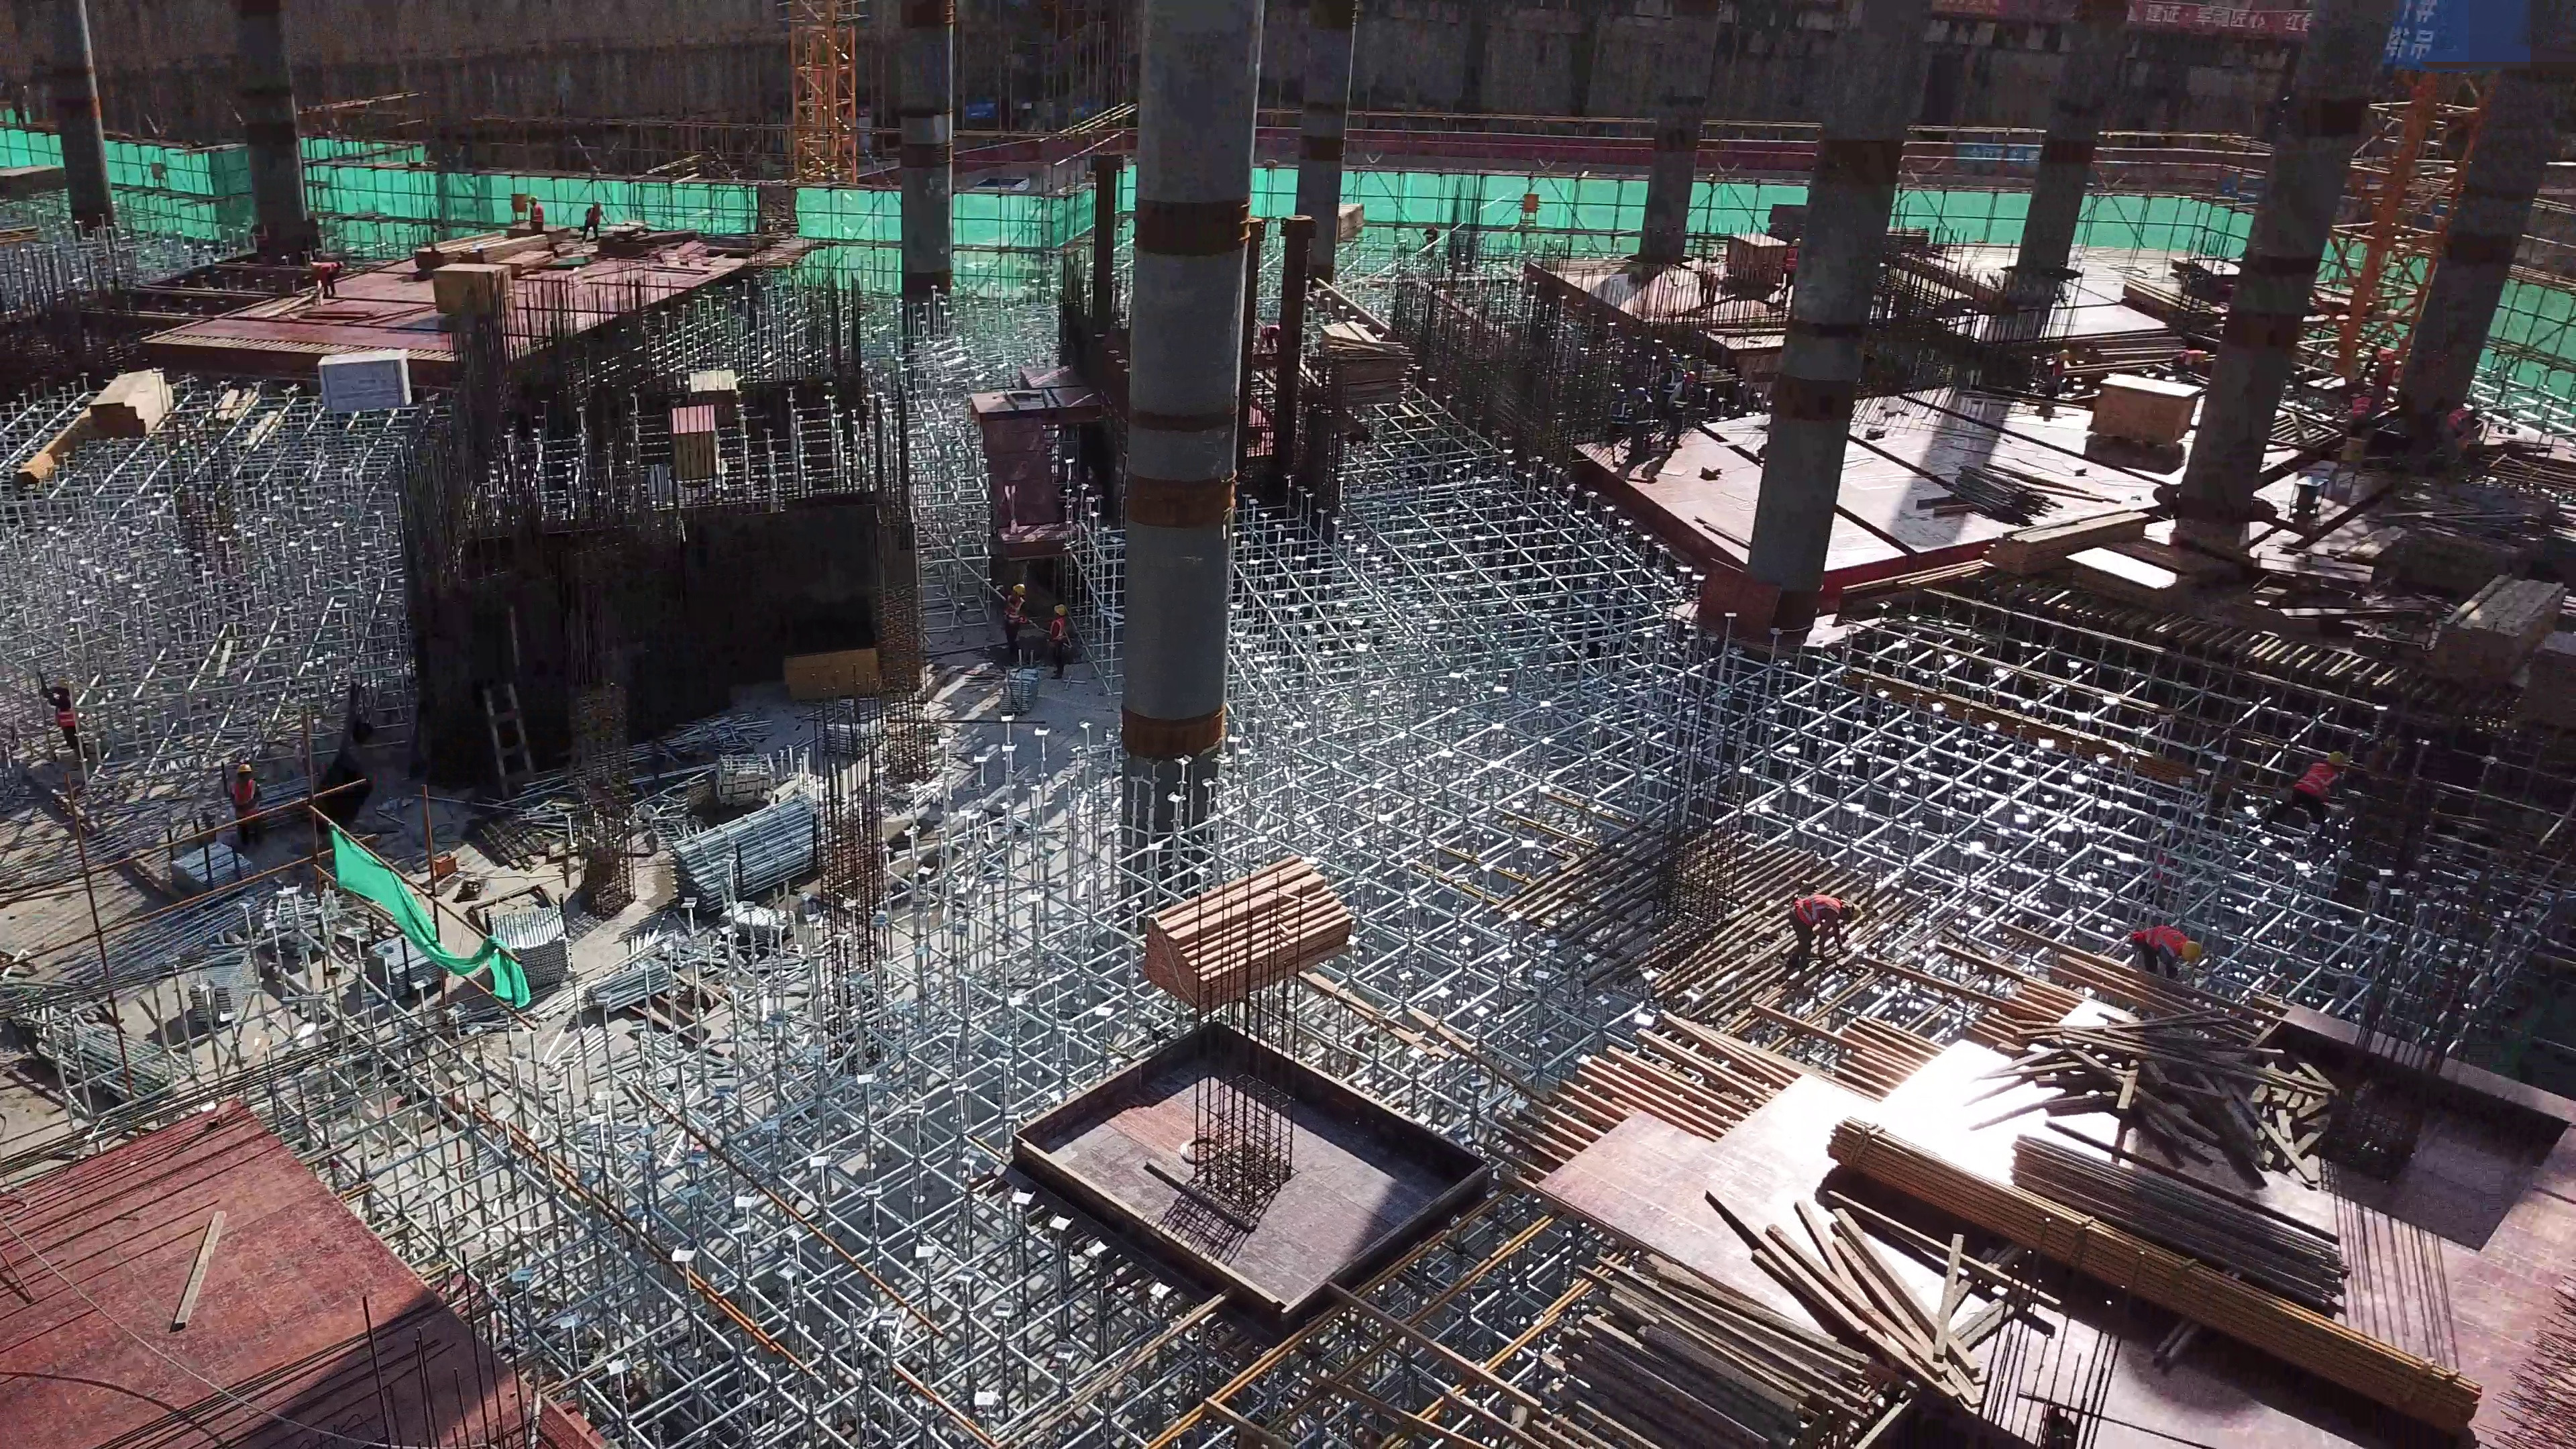board: (1629, 1130, 1821, 1274), (666, 404, 714, 476)
ebox: (1518, 192, 1542, 213)
helmet: (2179, 943, 2198, 965), (2327, 751, 2346, 772), (1847, 904, 1862, 920), (237, 763, 252, 774), (1683, 372, 1695, 384)
person: (1786, 897, 1856, 969), (2284, 753, 2350, 824), (2132, 925, 2203, 984), (1666, 370, 1695, 456), (1625, 390, 1656, 470), (1002, 583, 1026, 661), (1046, 602, 1069, 685), (527, 195, 548, 239), (584, 202, 607, 242), (1782, 241, 1794, 306)
scaffold: (671, 798, 835, 908), (71, 896, 238, 990), (40, 1010, 180, 1106), (488, 904, 578, 987), (366, 933, 443, 1006), (192, 955, 262, 1028), (173, 841, 252, 900), (819, 705, 887, 763), (997, 661, 1043, 723)
slogan: (2092, 1, 2332, 52)
vest: (227, 779, 262, 827), (2298, 765, 2336, 809), (1792, 896, 1844, 928), (2135, 926, 2180, 963), (1630, 404, 1654, 437), (56, 697, 83, 726), (1611, 402, 1631, 434), (582, 206, 604, 228), (1780, 252, 1801, 278), (2350, 397, 2369, 423), (1674, 385, 1687, 421), (531, 203, 543, 227)
wood: (1818, 1104, 2491, 1435), (1564, 1265, 1903, 1449), (2082, 1012, 2300, 1147), (1146, 859, 1356, 987), (2425, 572, 2554, 713), (98, 372, 166, 445)
